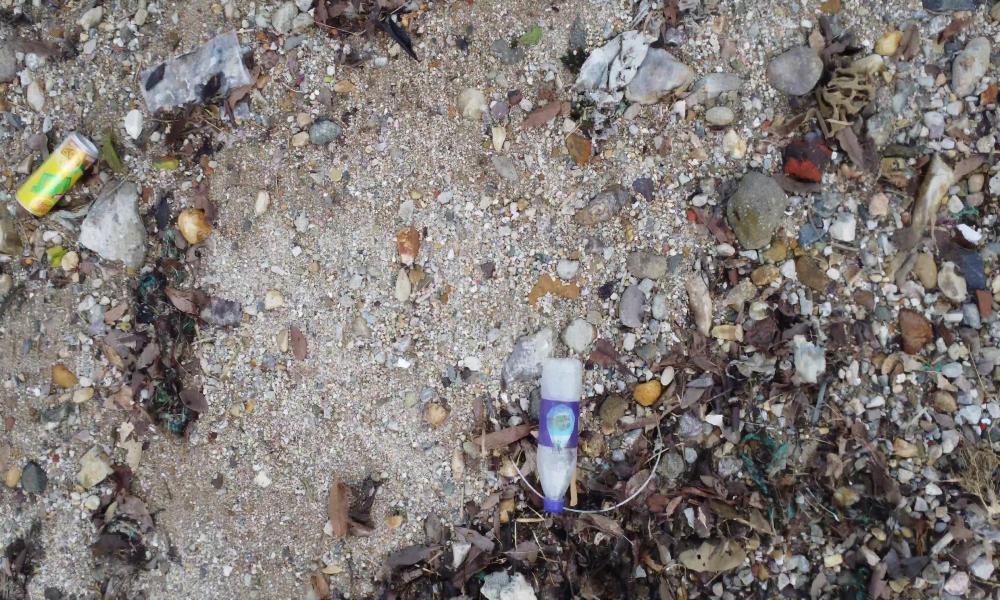can: (23, 136, 102, 218), (19, 217, 32, 222)
plastic bottle: (539, 357, 582, 513)
